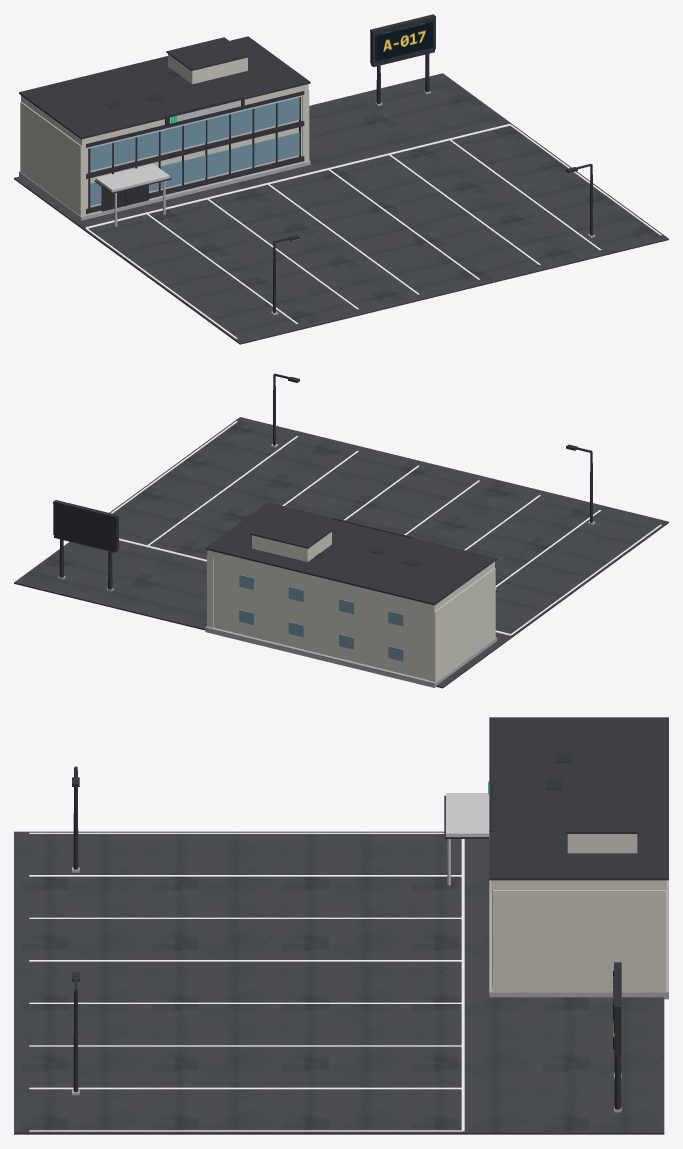
Rendered from truck-center.glb.
The picture shows the model from 3 angles, top to bottom: view 1: azimuth 30°, elevation 25°; view 2: azimuth 150°, elevation 25°; view 3: azimuth 270°, elevation 25°; orthographic projection. The views are drawn at different scales.
Visible parts, largest first — view 1: object 1, object 4, object 3, object 5, object 6, object 11, painelSenhas, object 7, object 2; view 2: object 1, object 3, object 4, object 6, object 11, object 2, object 5; view 3: object 1, object 4, object 3, object 11, object 6, object 7, object 2.
Part boxes in pixels (x1=…): object 1: x1=14, y1=73, x2=668, y2=344; object 4: x1=19, y1=36, x2=310, y2=214; object 3: x1=20, y1=54, x2=309, y2=216; object 5: x1=89, y1=97, x2=299, y2=205; object 6: x1=88, y1=14, x2=593, y2=312; object 11: x1=85, y1=124, x2=661, y2=338; painelSenhas: x1=375, y1=21, x2=433, y2=61; object 7: x1=95, y1=100, x2=240, y2=192; object 2: x1=19, y1=90, x2=595, y2=315; object 1: x1=14, y1=417, x2=668, y2=688; object 3: x1=207, y1=532, x2=495, y2=682; object 4: x1=205, y1=502, x2=497, y2=605; object 6: x1=53, y1=373, x2=592, y2=589; object 11: x1=110, y1=421, x2=661, y2=635; object 2: x1=58, y1=444, x2=595, y2=687; object 5: x1=239, y1=574, x2=403, y2=661; object 1: x1=14, y1=831, x2=664, y2=1134; object 4: x1=444, y1=717, x2=668, y2=986; object 3: x1=491, y1=834, x2=666, y2=991; object 11: x1=29, y1=832, x2=464, y2=1131; object 6: x1=72, y1=753, x2=621, y2=1109; object 7: x1=446, y1=781, x2=489, y2=839; object 2: x1=72, y1=867, x2=668, y2=1112.
Size of the model in its own units: 46 by 10.19 by 42.3.
Materials: 12 (2 with a texture image).
